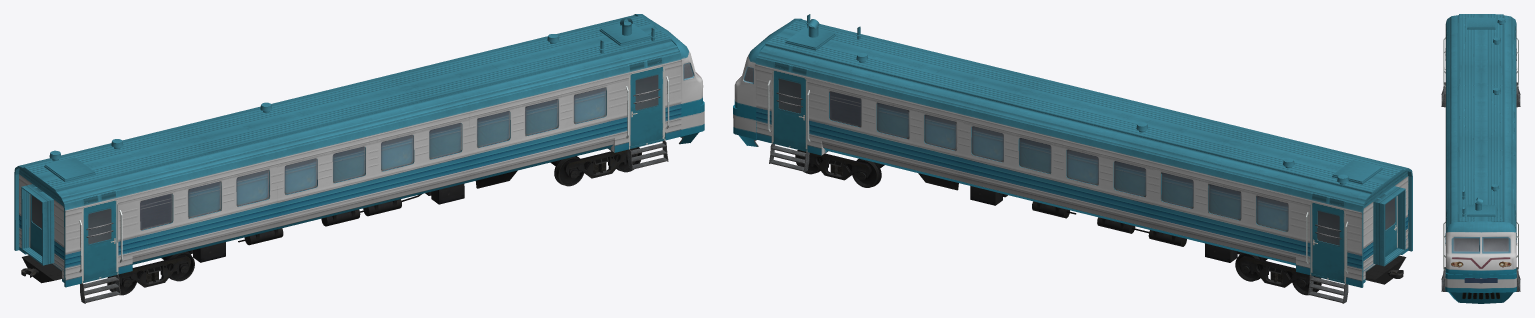
Rendered from Train02aCupe_1Passenger1Cabin.FBX.
3 renders of one model, left to right at view 1: azimuth 30°, elevation 25°; view 2: azimuth 150°, elevation 25°; view 3: azimuth 270°, elevation 25°, orthographic. The views are drawn at different scales.
Parts seen in each view (by area): view 1: Train02aCupe_1Passenger, Train02aCupe_1WheelsPas, Train02aCupe_1Cabin, Train02aCupe_Stairs, Train02aCupe_1Wheel03Pas; view 2: Train02aCupe_1Passenger, Train02aCupe_1WheelsPas, Train02aCupe_1Cabin, Train02aCupe_Stairs, Train02aCupe_1Wheel03Pas; view 3: Train02aCupe_1Passenger, Train02aCupe_1Cabin, Train02aCupe_Stairs.
Boxes of the visible parts, x1,y1,x2,y2 form: Train02aCupe_1Passenger: [14, 15, 681, 287]; Train02aCupe_1WheelsPas: [21, 148, 637, 287]; Train02aCupe_1Cabin: [634, 14, 704, 144]; Train02aCupe_Stairs: [80, 140, 668, 303]; Train02aCupe_1Wheel03Pas: [550, 156, 584, 186]; Train02aCupe_1Passenger: [755, 14, 1412, 287]; Train02aCupe_1WheelsPas: [799, 150, 1406, 287]; Train02aCupe_1Cabin: [733, 18, 802, 146]; Train02aCupe_Stairs: [769, 143, 1348, 303]; Train02aCupe_1Wheel03Pas: [851, 158, 884, 187]; Train02aCupe_1Passenger: [1443, 14, 1518, 271]; Train02aCupe_1Cabin: [1445, 221, 1516, 303]; Train02aCupe_Stairs: [1441, 82, 1520, 291].
Bounding box in the file's own units: 1373 × 277 × 206.
